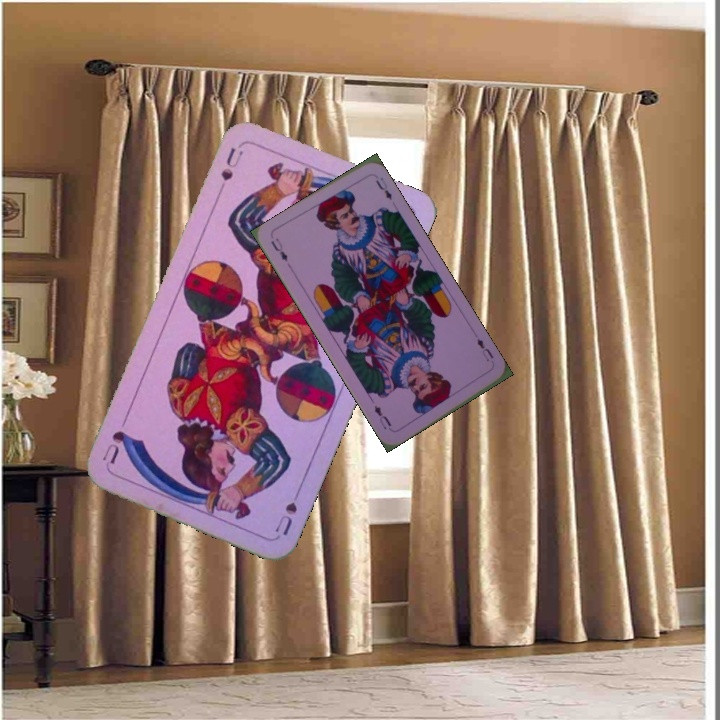EU: (473, 334, 497, 368), (267, 234, 290, 264)
SU: (270, 481, 305, 539), (216, 143, 246, 184)
